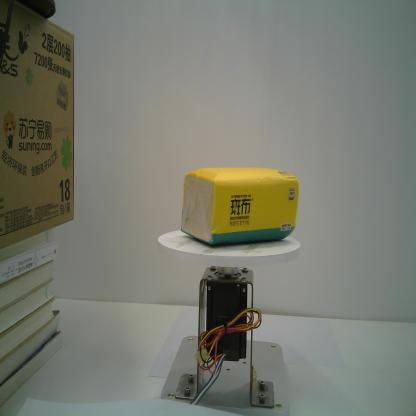Tissue: (178, 164, 301, 248)
